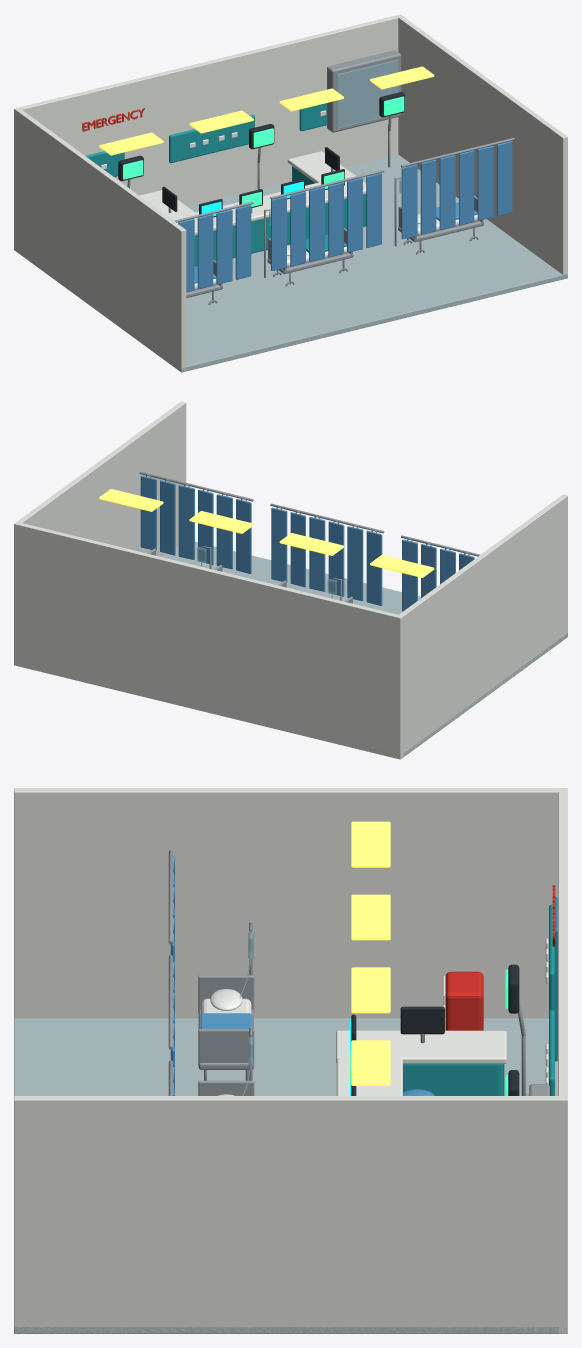
Rendered from hospital_emergency_nurse_station.glb.
The picture shows the model from 3 angles, top to bottom: view 1: azimuth 30°, elevation 25°; view 2: azimuth 150°, elevation 25°; view 3: azimuth 270°, elevation 25°; orthographic projection. The views are drawn at different scales.
Parts seen in each view (by area): view 1: Hospital_BackWall, Hospital_Floor, Hospital_LeftWall, Hospital_RightWall, MedicationCabinet_Frame, MedicationCabinet_Glass, EmergencyBay_2_HeadPanel, PrivacyCurtain_1_5, PrivacyCurtain_3_1, PrivacyCurtain_1_4, PrivacyCurtain_1_6, PrivacyCurtain_3_2 (+23 smaller); view 2: Hospital_BackWall, Hospital_LeftWall, Hospital_RightWall, Hospital_Floor, PrivacyCurtain_2_2, PrivacyCurtain_3_4, PrivacyCurtain_2_6, PrivacyCurtain_3_5, PrivacyCurtain_2_1, PrivacyCurtain_2_3, PrivacyCurtain_3_6, PrivacyCurtain_2_4 (+11 smaller); view 3: Hospital_RightWall, Hospital_LeftWall, Hospital_Floor, Hospital_BackWall, NurseStation_WorktopLeft, NurseStation_LeftWing, CrashCart_Body, NurseStation_WorktopFront, Hospital_CeilingLight_1, Hospital_CeilingLight_2, Hospital_CeilingLight_3, Hospital_CeilingLight_4 (+5 smaller).
Boxes of the visible parts, x1=… form: Hospital_BackWall: x1=14, y1=14, x2=402, y2=248; Hospital_Floor: x1=100, y1=154, x2=567, y2=372; Hospital_LeftWall: x1=14, y1=108, x2=186, y2=372; Hospital_RightWall: x1=396, y1=15, x2=567, y2=275; MedicationCabinet_Frame: x1=327, y1=50, x2=401, y2=132; MedicationCabinet_Glass: x1=336, y1=59, x2=398, y2=128; EmergencyBay_2_HeadPanel: x1=169, y1=115, x2=254, y2=163; PrivacyCurtain_1_5: x1=216, y1=209, x2=232, y2=284; PrivacyCurtain_3_1: x1=401, y1=164, x2=417, y2=239; PrivacyCurtain_1_4: x1=197, y1=214, x2=213, y2=289; PrivacyCurtain_1_6: x1=235, y1=204, x2=251, y2=279; PrivacyCurtain_3_2: x1=420, y1=159, x2=436, y2=234; Hospital_BackWall: x1=14, y1=522, x2=403, y2=759; Hospital_LeftWall: x1=396, y1=494, x2=567, y2=758; Hospital_RightWall: x1=14, y1=401, x2=186, y2=666; Hospital_Floor: x1=162, y1=541, x2=567, y2=758; PrivacyCurtain_2_2: x1=347, y1=526, x2=363, y2=600; PrivacyCurtain_3_4: x1=178, y1=485, x2=194, y2=559; PrivacyCurtain_2_6: x1=271, y1=507, x2=287, y2=582; PrivacyCurtain_3_5: x1=160, y1=480, x2=175, y2=555; PrivacyCurtain_2_1: x1=366, y1=530, x2=382, y2=605; PrivacyCurtain_2_3: x1=328, y1=521, x2=344, y2=596; PrivacyCurtain_3_6: x1=140, y1=476, x2=156, y2=550; PrivacyCurtain_2_4: x1=309, y1=517, x2=325, y2=591; Hospital_RightWall: x1=14, y1=1096, x2=567, y2=1333; Hospital_LeftWall: x1=14, y1=788, x2=567, y2=1018; Hospital_Floor: x1=14, y1=1018, x2=567, y2=1333; Hospital_BackWall: x1=558, y1=788, x2=567, y2=1333; NurseStation_WorktopLeft: x1=336, y1=1030, x2=506, y2=1063; NurseStation_LeftWing: x1=403, y1=1064, x2=504, y2=1095; CrashCart_Body: x1=445, y1=971, x2=483, y2=1030; NurseStation_WorktopFront: x1=336, y1=1030, x2=402, y2=1095; Hospital_CeilingLight_1: x1=351, y1=821, x2=390, y2=867; Hospital_CeilingLight_2: x1=351, y1=894, x2=390, y2=940; Hospital_CeilingLight_3: x1=351, y1=967, x2=390, y2=1013; Hospital_CeilingLight_4: x1=351, y1=1040, x2=390, y2=1085.
Size of the model in its own units: 12 by 4.22 by 9.
